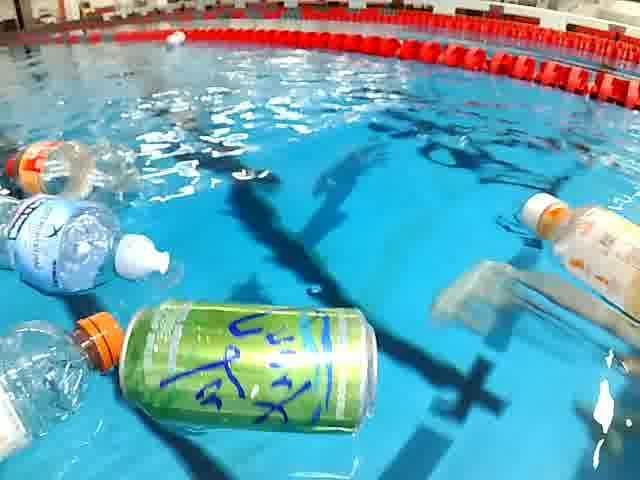Bottle: (0, 183, 182, 300), (0, 302, 132, 461), (510, 182, 640, 338), (0, 128, 152, 215)
Can: (116, 300, 382, 437)
